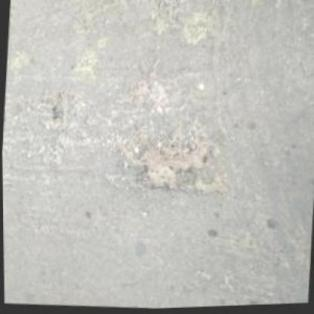Hueco: (134, 125, 224, 200), (51, 93, 67, 121)
